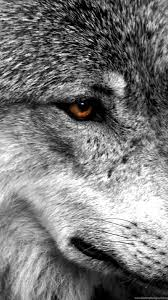Lobo: (1, 8, 168, 284)
